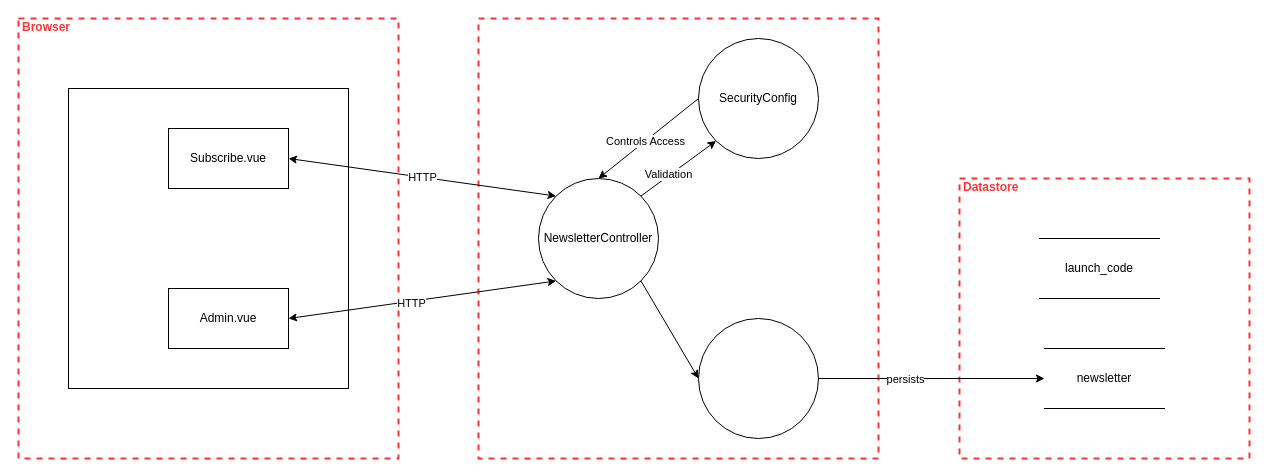
Some shapes in this 1267 by 476 pixel diagram are drawn without their labels. The shapes that lost their labels are listed below. From the top down, each one's box as (x1, y1, x2, y2) in pixels, then its label:
(68, 88, 348, 388): User (Browser)
(477, 17, 879, 459): Backend
(698, 318, 818, 438): NewsletterRepository
